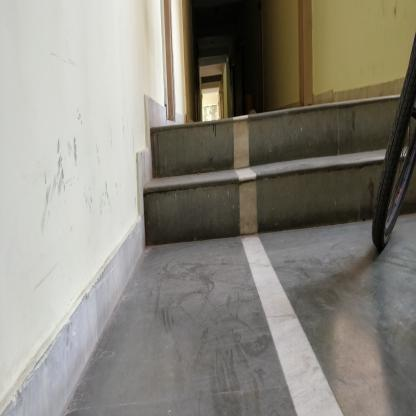stairs: (152, 112, 366, 246)
